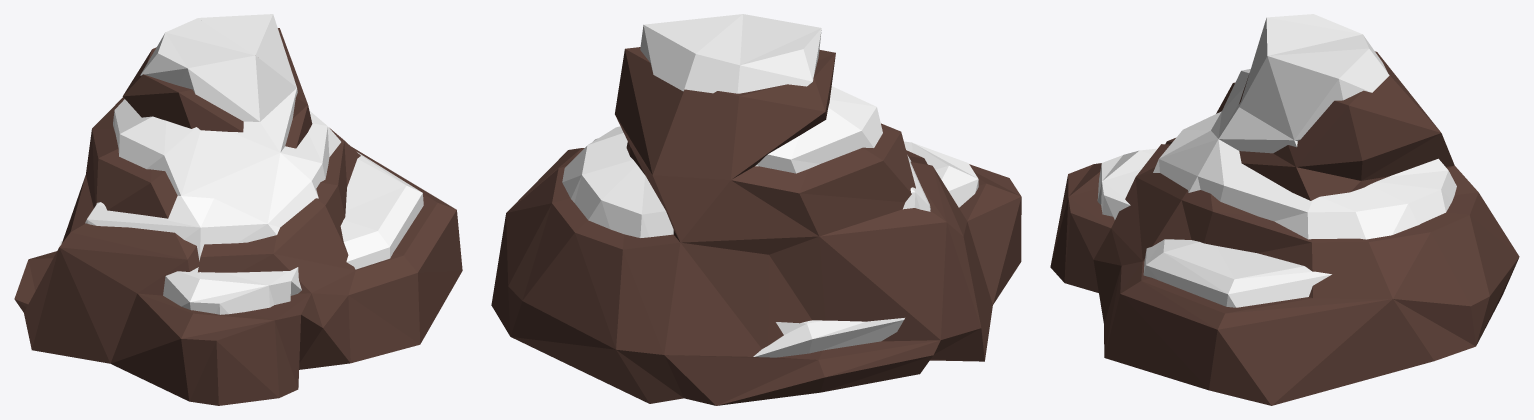
File: snow_rock_015.fbx
3 views of the same model, side by side, from view 1: azimuth 30°, elevation 25°; view 2: azimuth 150°, elevation 25°; view 3: azimuth 270°, elevation 25° (orthographic). The views are drawn at different scales.
Parts seen in each view (by area): view 1: snow_rock_015; view 2: snow_rock_015; view 3: snow_rock_015.
Part boxes in pixels (left/top/right/bottom): snow_rock_015: left=14, top=14, right=462, bottom=405; snow_rock_015: left=491, top=14, right=1021, bottom=405; snow_rock_015: left=1050, top=14, right=1519, bottom=405.
Size of the model in its own units: 876 by 823 by 513.
